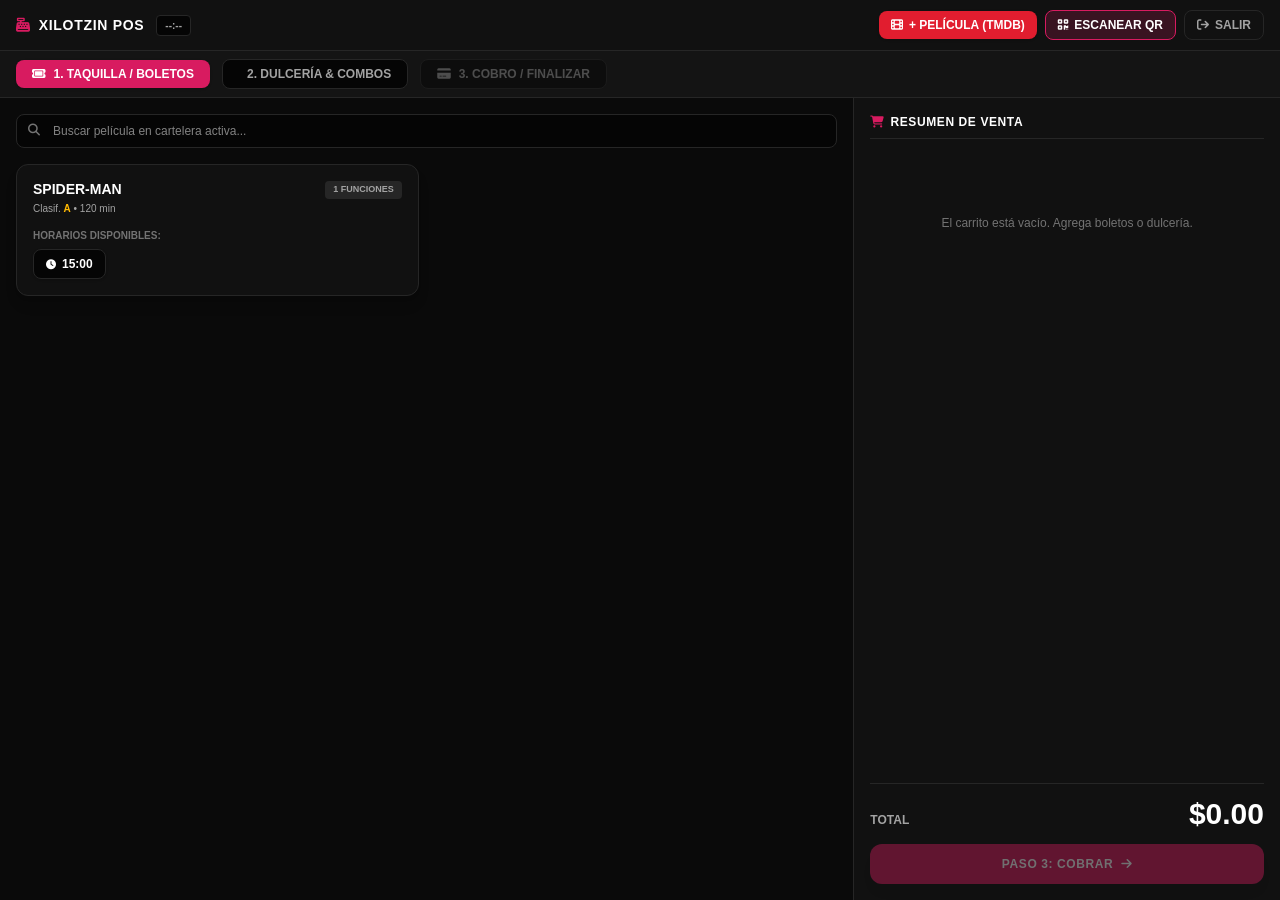
Test: PosPage Component › abre el modal de registro TMDB al hacer clic en + Película (TMDB)
Expected: the heading "Spider-Man" is shown, [33,181,122,198]
Click the button "+ Película (TMDB)" at (958, 25), box [879,11,1037,39]
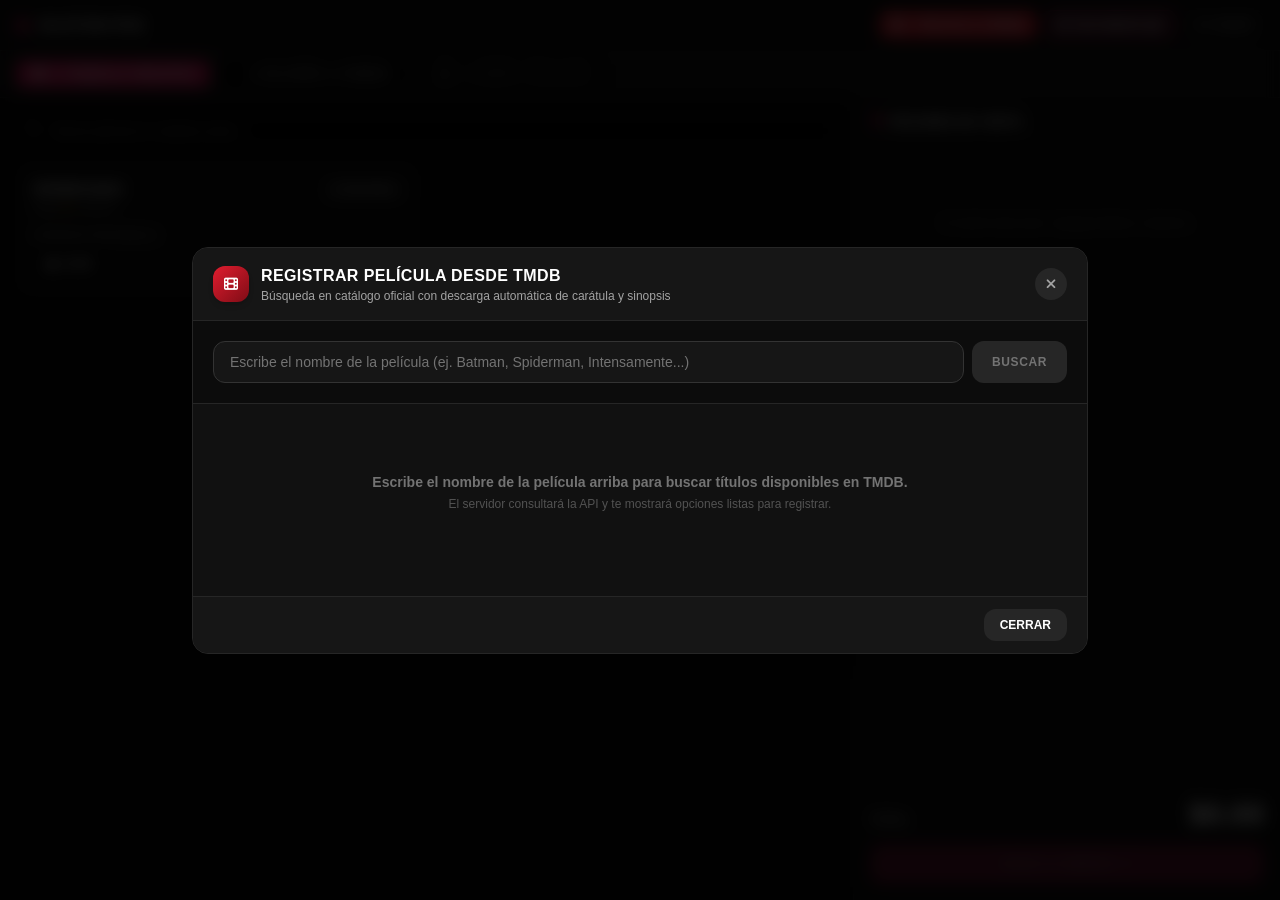
Expected: the heading "Registrar Película desde TMDB" is shown, [261,266,561,284]
